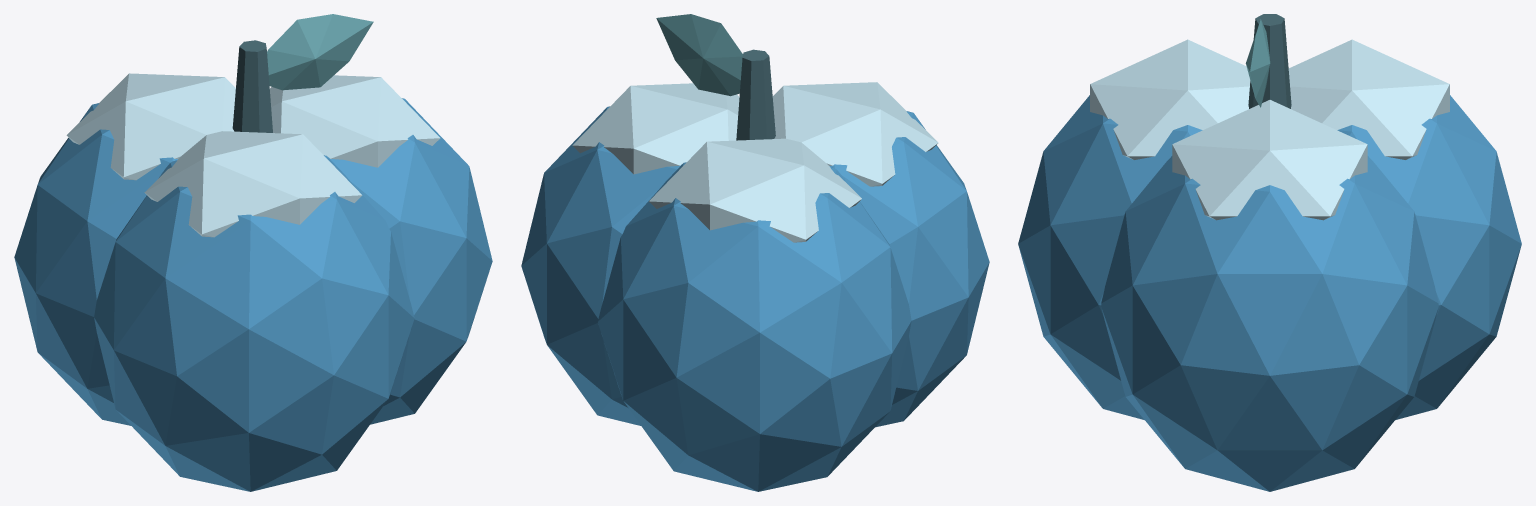
The model's file is FrostberryFruit.glb.
3 renders of one model, left to right at view 1: azimuth 30°, elevation 25°; view 2: azimuth 150°, elevation 25°; view 3: azimuth 270°, elevation 25°, orthographic. The views are drawn at different scales.
Parts seen in each view (by area): view 1: FrostberryFruit_FrostberryBody, FrostberryFruit_FrostberryBloom, FrostberryFruit_FrostberryLeaf, FrostberryFruit_FrostberryStem; view 2: FrostberryFruit_FrostberryBody, FrostberryFruit_FrostberryBloom, FrostberryFruit_FrostberryLeaf, FrostberryFruit_FrostberryStem; view 3: FrostberryFruit_FrostberryBody, FrostberryFruit_FrostberryBloom, FrostberryFruit_FrostberryStem, FrostberryFruit_FrostberryLeaf.
Part boxes in pixels (x1=…): FrostberryFruit_FrostberryBody: x1=14, y1=98, x2=492, y2=491; FrostberryFruit_FrostberryBloom: x1=66, y1=73, x2=440, y2=237; FrostberryFruit_FrostberryLeaf: x1=267, y1=14, x2=373, y2=90; FrostberryFruit_FrostberryStem: x1=232, y1=40, x2=272, y2=132; FrostberryFruit_FrostberryBody: x1=521, y1=106, x2=989, y2=491; FrostberryFruit_FrostberryBloom: x1=572, y1=82, x2=938, y2=242; FrostberryFruit_FrostberryLeaf: x1=656, y1=14, x2=742, y2=96; FrostberryFruit_FrostberryStem: x1=736, y1=49, x2=775, y2=140; FrostberryFruit_FrostberryBody: x1=1018, y1=95, x2=1521, y2=491; FrostberryFruit_FrostberryBloom: x1=1090, y1=39, x2=1449, y2=220; FrostberryFruit_FrostberryStem: x1=1248, y1=14, x2=1291, y2=108; FrostberryFruit_FrostberryLeaf: x1=1245, y1=19, x2=1270, y2=107.
Size of the model in its own units: 0.9563 by 0.968 by 1.
